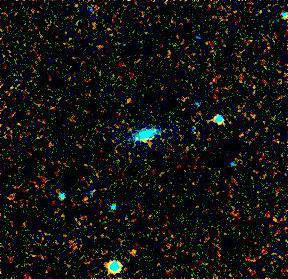star: (118, 239, 148, 269)
